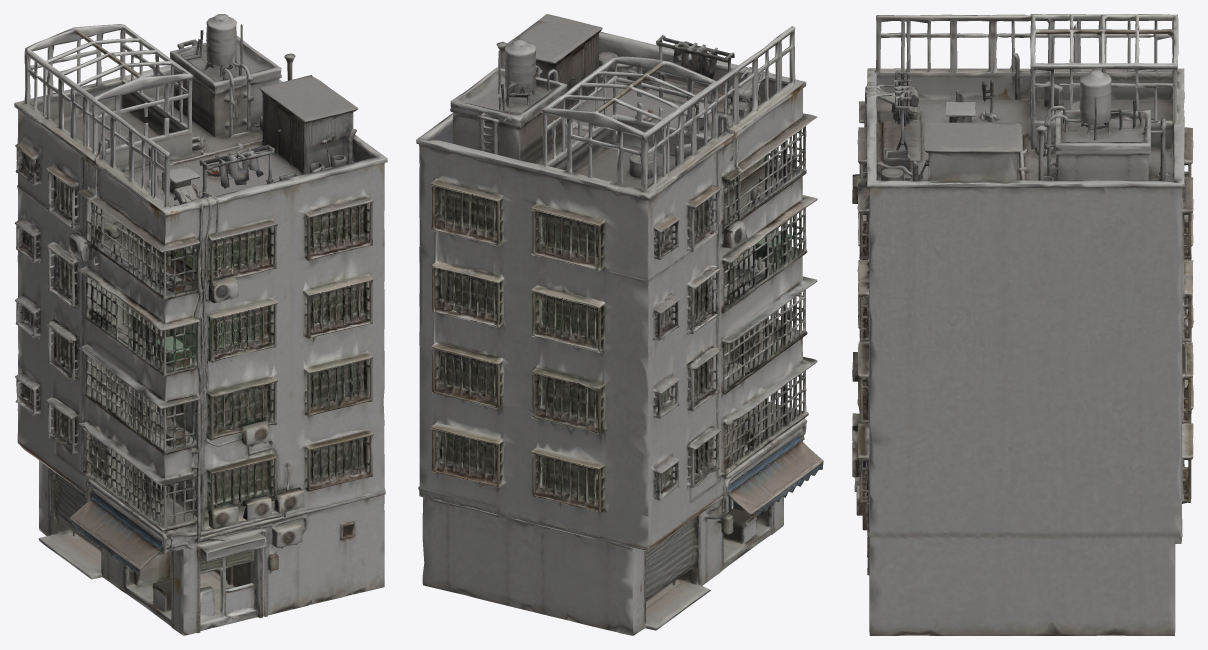
Rendered from tripo_convert_2cd653c0-b6d2-40ae-abf1-8d023de54f7e.glb.
The picture shows the model from 3 angles, left to right: view 1: azimuth 30°, elevation 25°; view 2: azimuth 150°, elevation 25°; view 3: azimuth 270°, elevation 25°; orthographic projection. The views are drawn at different scales.
Parts seen in each view (by area): view 1: tripo_node_2cd653c0-b6d2-40ae-abf1-8d023de54f7e; view 2: tripo_node_2cd653c0-b6d2-40ae-abf1-8d023de54f7e; view 3: tripo_node_2cd653c0-b6d2-40ae-abf1-8d023de54f7e.
Part boxes in pixels (left/top/right/bottom): tripo_node_2cd653c0-b6d2-40ae-abf1-8d023de54f7e: left=14, top=14, right=387, bottom=635; tripo_node_2cd653c0-b6d2-40ae-abf1-8d023de54f7e: left=416, top=14, right=823, bottom=635; tripo_node_2cd653c0-b6d2-40ae-abf1-8d023de54f7e: left=852, top=14, right=1193, bottom=635.
Bounding box in the file's own units: 0.5043 × 1 × 0.5769.
1 material, 1 textured.
